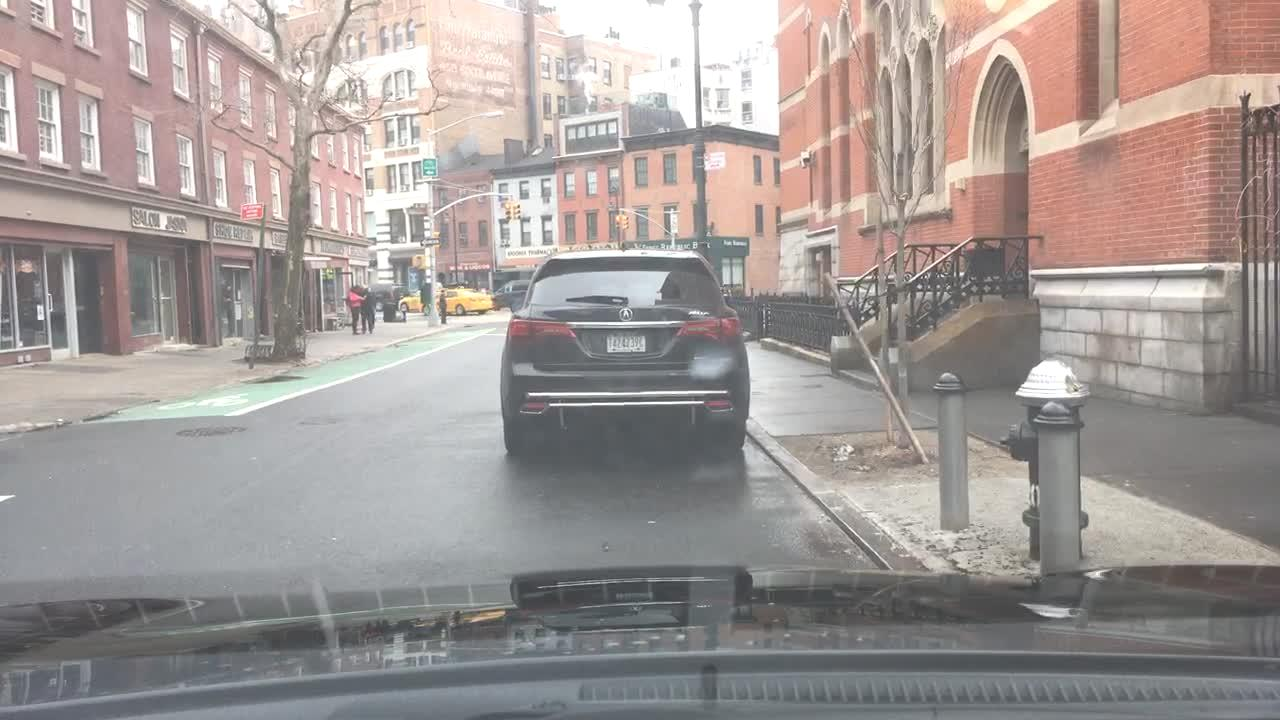acura: (613, 304, 637, 324)
